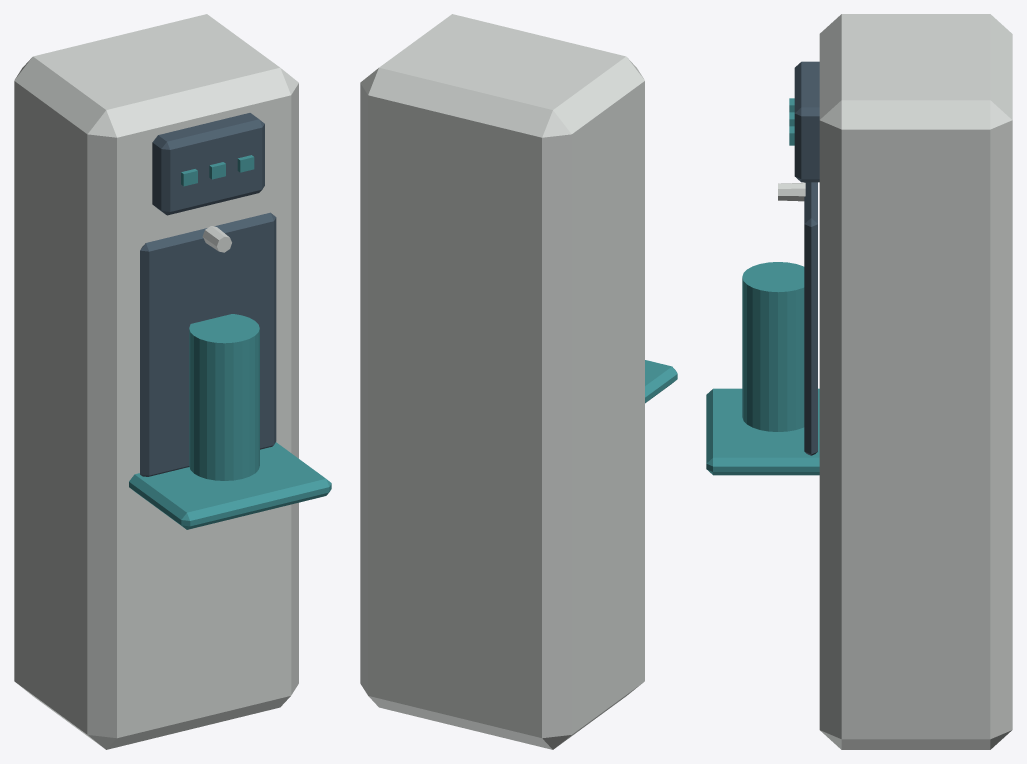
3 renders of one model, left to right at view 1: azimuth 30°, elevation 25°; view 2: azimuth 150°, elevation 25°; view 3: azimuth 270°, elevation 25°, orthographic.
Visible parts, largest first — view 1: MI-065 Drinking-bottle refill station batched; view 2: MI-065 Drinking-bottle refill station batched; view 3: MI-065 Drinking-bottle refill station batched.
Part boxes in pixels (bbox=[...]): MI-065 Drinking-bottle refill station batched: bbox=[14, 14, 331, 749]; MI-065 Drinking-bottle refill station batched: bbox=[360, 14, 677, 749]; MI-065 Drinking-bottle refill station batched: bbox=[706, 14, 1012, 749].
Bounding box in the file's own units: 0.45 × 1.3 × 0.555.
